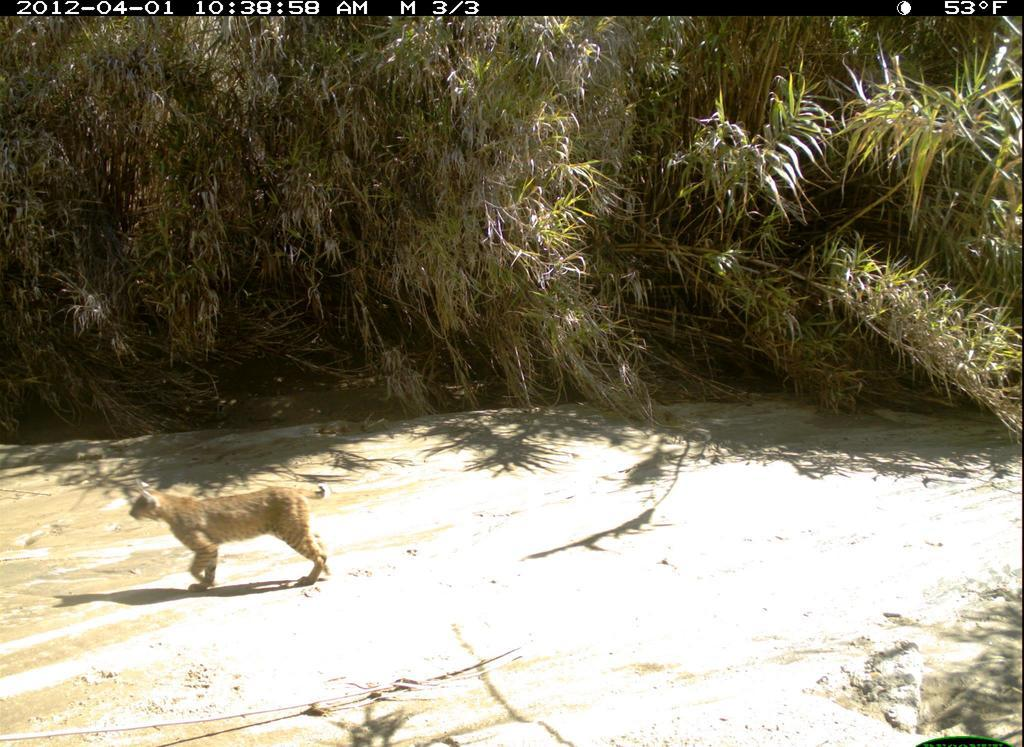bobcat: (129, 472, 338, 602)
